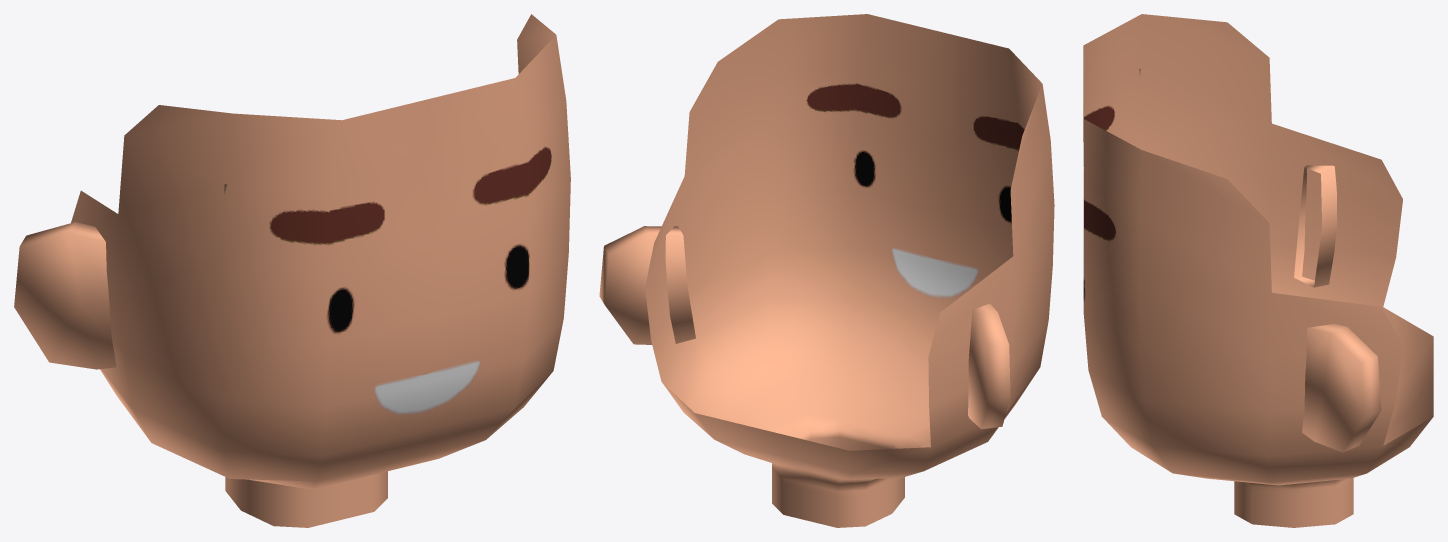
The model's file is NPC_White_Head.gltf.
3 views of the same model, side by side, from view 1: azimuth 30°, elevation 25°; view 2: azimuth 150°, elevation 25°; view 3: azimuth 270°, elevation 25° (orthographic). The views are drawn at different scales.
Parts seen in each view (by area): view 1: NPC_White_Head; view 2: NPC_White_Head; view 3: NPC_White_Head.
Part boxes in pixels (x1,y1,x2,y2): NPC_White_Head: [14, 14, 570, 527]; NPC_White_Head: [599, 14, 1054, 527]; NPC_White_Head: [1083, 14, 1433, 527].
Bounding box in the file's own units: 0.5931 × 0.5464 × 0.4151.
1 material, 1 textured.
